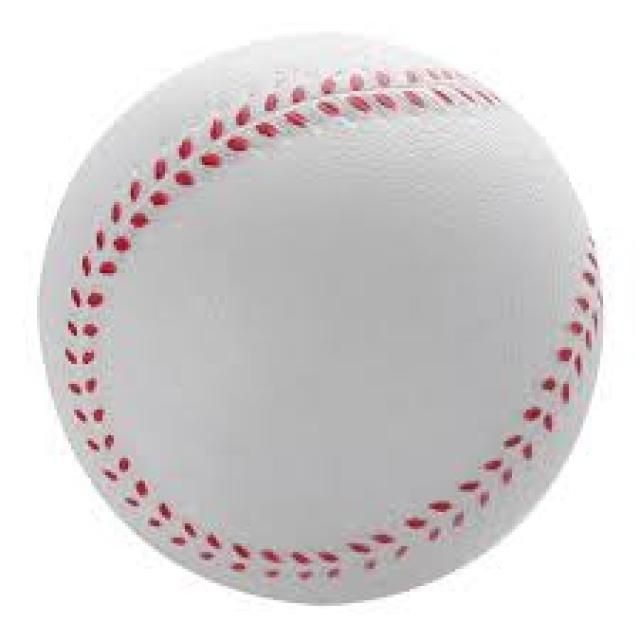beisbol ball: (40, 34, 601, 602)
